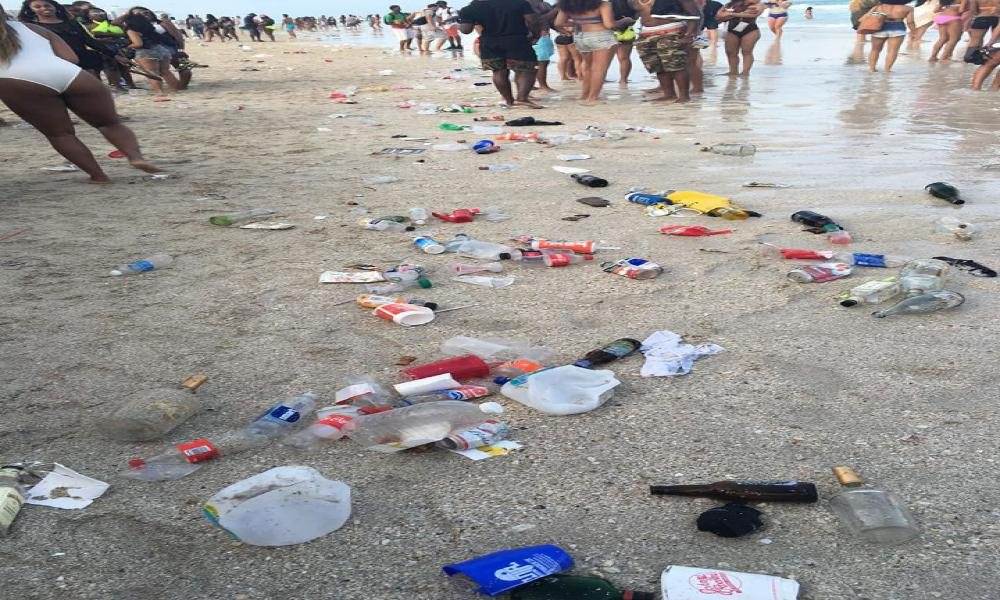can: (597, 252, 672, 284), (788, 257, 865, 287), (438, 380, 501, 403), (353, 289, 407, 311)
plastic bag: (636, 312, 718, 383)
plastic bottle: (811, 451, 934, 546), (342, 392, 507, 450), (124, 431, 258, 475), (850, 286, 988, 326), (247, 392, 325, 441), (569, 334, 649, 370), (440, 338, 542, 366), (304, 406, 363, 447), (111, 248, 182, 282), (495, 350, 564, 383), (509, 246, 604, 269), (844, 272, 904, 306), (838, 247, 922, 270), (209, 205, 290, 226), (353, 165, 410, 186), (520, 238, 616, 250), (497, 123, 544, 143), (412, 232, 443, 259), (460, 136, 504, 152)
plastic container: (192, 462, 368, 554), (521, 355, 630, 418), (380, 304, 441, 324)
